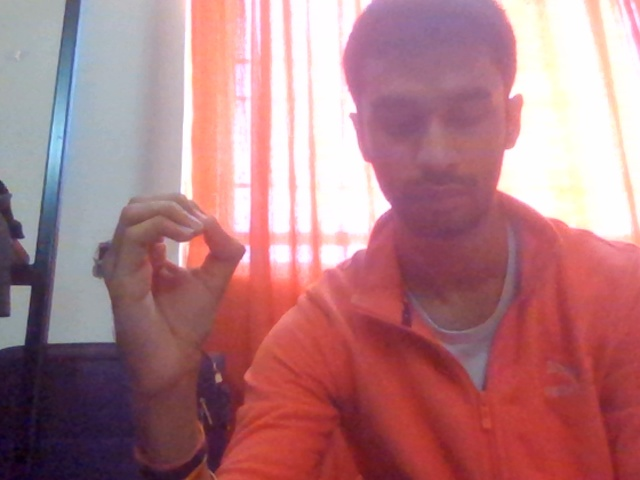O: (69, 169, 264, 428)
